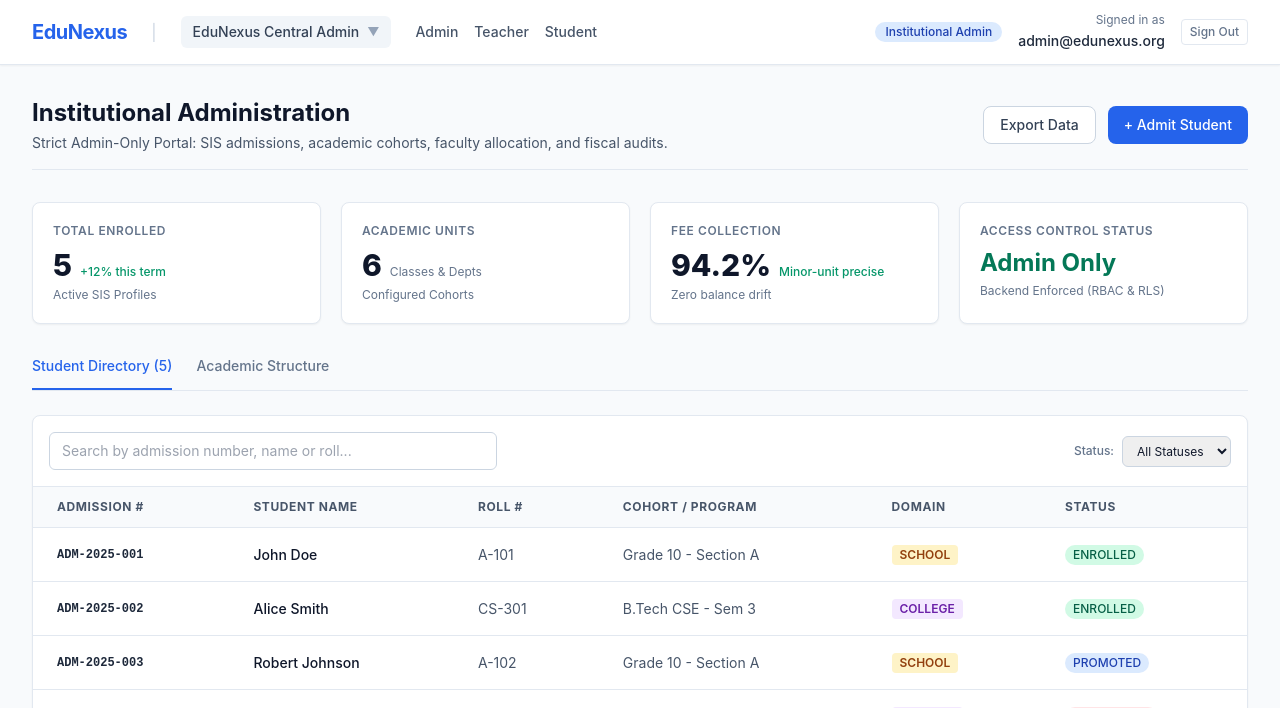
Test case: AdminDashboard Component › allows admitting a new student by authorized admin
This screenshot has width=1280, height=708.
Click the button "+ Admit Student".
click(1178, 125)  # box [1108, 106, 1248, 144]
(page scrolled)
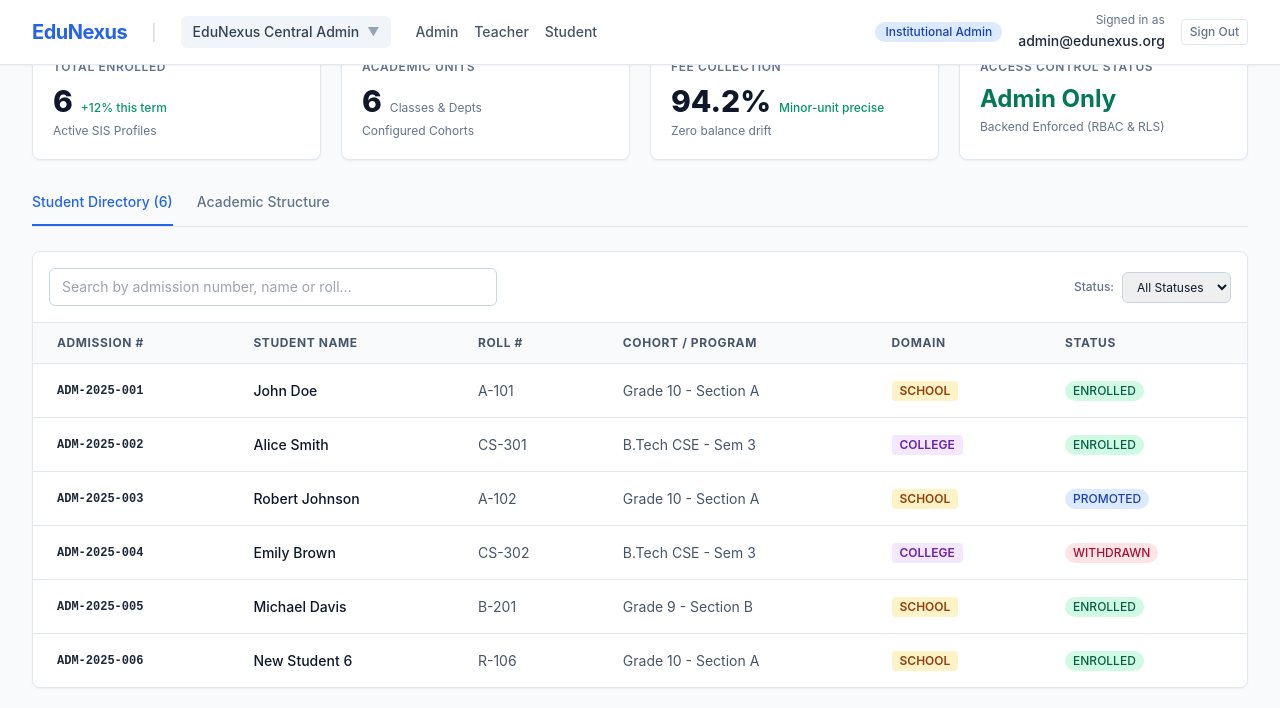
Check: the text "New Student 6" is shown, box [230, 634, 454, 687]
